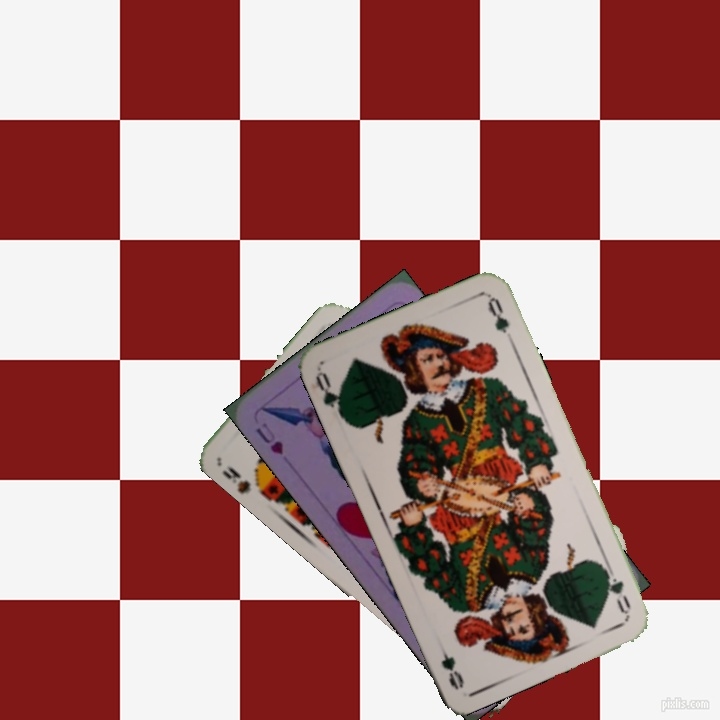GO: (311, 368, 349, 423), (598, 560, 634, 617)
HU: (251, 418, 287, 457)
S9: (218, 461, 270, 499)
